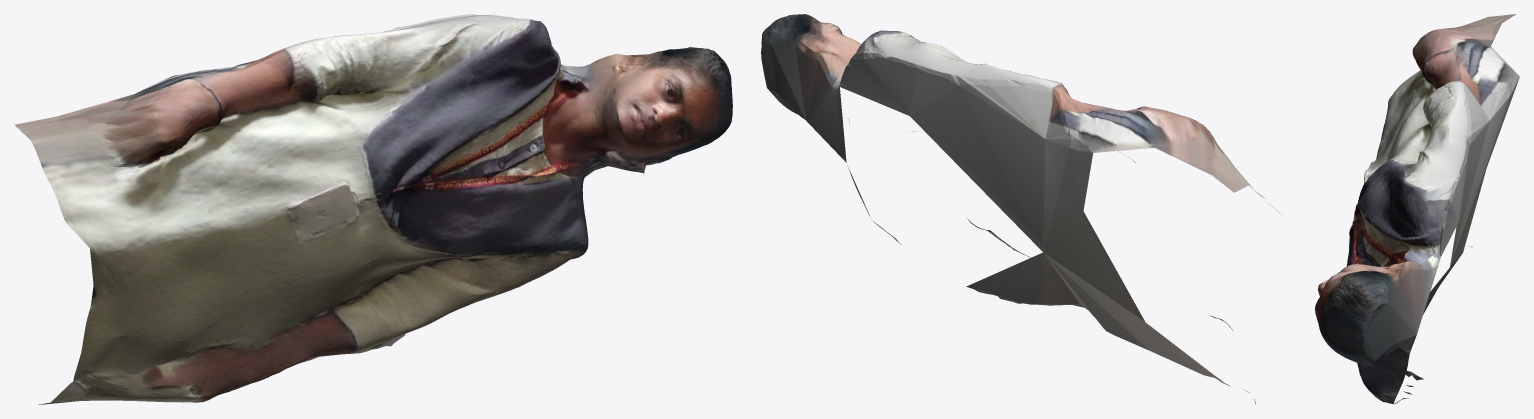
The picture shows the model from 3 angles, left to right: view 1: azimuth 30°, elevation 25°; view 2: azimuth 150°, elevation 25°; view 3: azimuth 270°, elevation 25°; orthographic projection. The views are drawn at different scales.
Bounding box in the file's own units: 0.9405 × 0.435 × 0.2971.
1 material, 1 textured.
